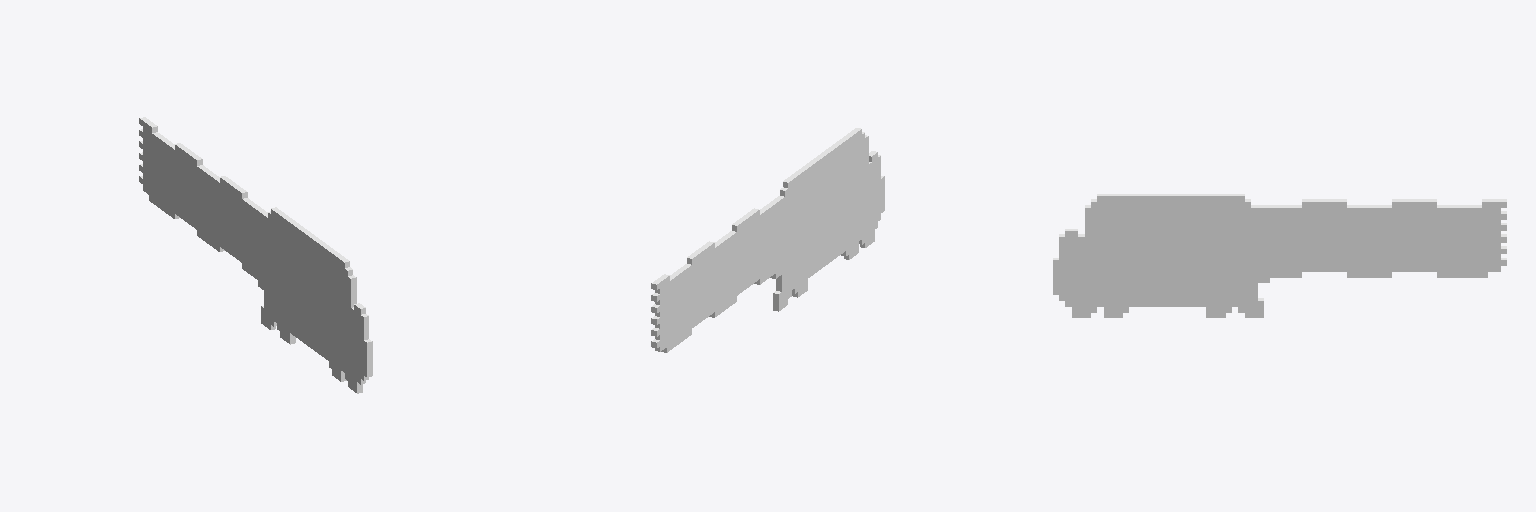
Rendered from Mineways2Skfb.obj.
3 renders of one model, left to right at view 1: azimuth 30°, elevation 25°; view 2: azimuth 150°, elevation 25°; view 3: azimuth 270°, elevation 25°, orthographic.
Parts seen in each view (by area): view 1: nyan-cat.schematic__-24_0_-20_to_22_255_93; view 2: nyan-cat.schematic__-24_0_-20_to_22_255_93; view 3: nyan-cat.schematic__-24_0_-20_to_22_255_93.
Part boxes in pixels (bbox=[...]): nyan-cat.schematic__-24_0_-20_to_22_255_93: bbox=[139, 117, 372, 393]; nyan-cat.schematic__-24_0_-20_to_22_255_93: bbox=[651, 128, 884, 352]; nyan-cat.schematic__-24_0_-20_to_22_255_93: bbox=[1053, 194, 1506, 317].
Size of the model in its own units: 0.0476 by 1 by 3.38.